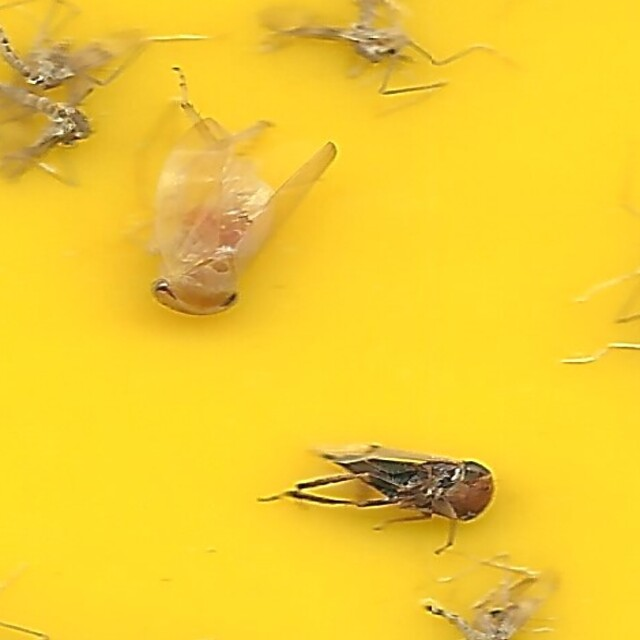Hemiptera: (136, 109, 332, 325), (264, 442, 504, 531)
